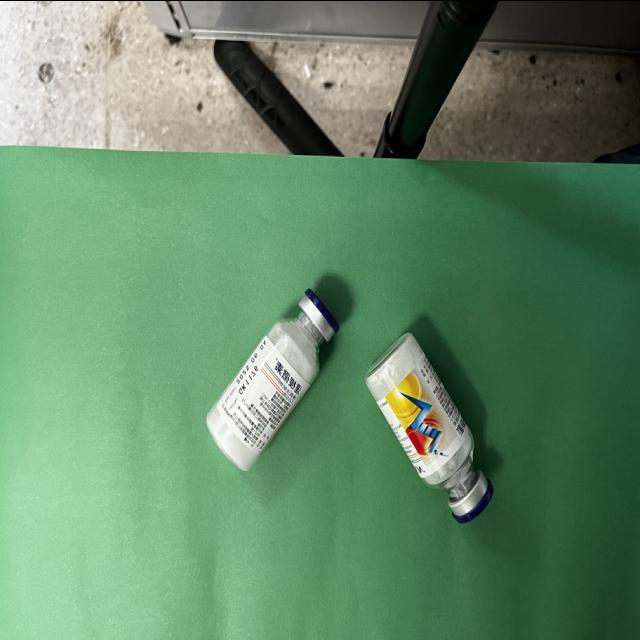Vials: (366, 332, 492, 521), (206, 288, 338, 468)
